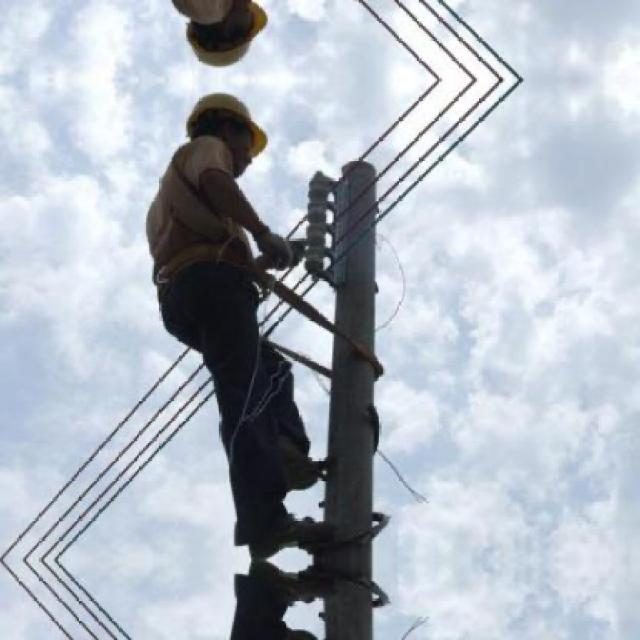helmet: (183, 88, 274, 178), (183, 0, 275, 74)
